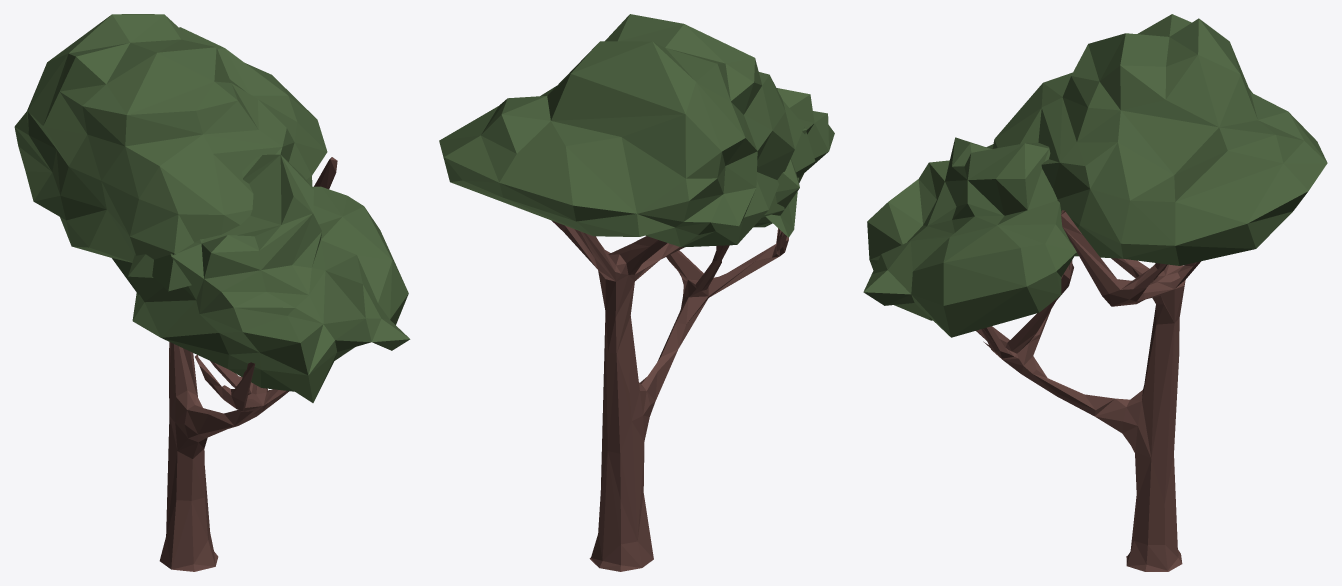
The model's file is CommonTree_2_far.glb.
3 views of the same model, side by side, from view 1: azimuth 30°, elevation 25°; view 2: azimuth 150°, elevation 25°; view 3: azimuth 270°, elevation 25° (orthographic). The views are drawn at different scales.
Parts seen in each view (by area): view 1: CommonTree_2; view 2: CommonTree_2; view 3: CommonTree_2.
Part boxes in pixels (bbox=[...]): CommonTree_2: bbox=[14, 14, 410, 571]; CommonTree_2: bbox=[439, 14, 834, 571]; CommonTree_2: bbox=[863, 14, 1327, 571].
Size of the model in its own units: 1.66 by 3.12 by 2.54.
